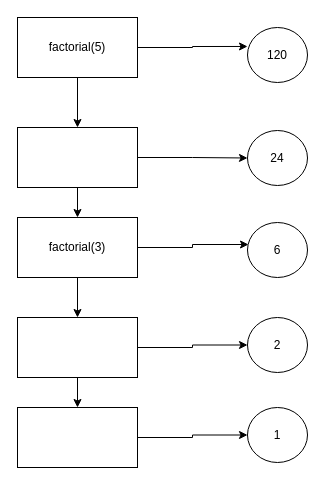
Some shapes in this 325 by 485 pixel diagram are drawn without their labels. The box of each missing label's shape, as (x1, y1, x2, y2) in pixels:
factorial(1): (16, 406, 138, 468)
factorial(2): (16, 316, 138, 378)
factorial(4): (16, 126, 138, 188)
